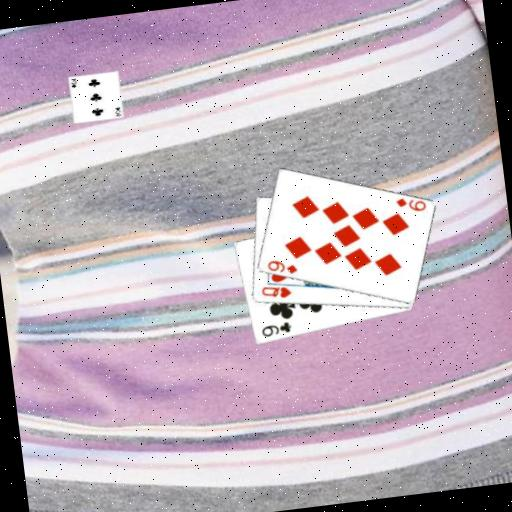9C: (257, 318, 294, 339)
9D: (264, 255, 300, 279), (393, 193, 429, 217)
QH: (258, 281, 294, 302)
